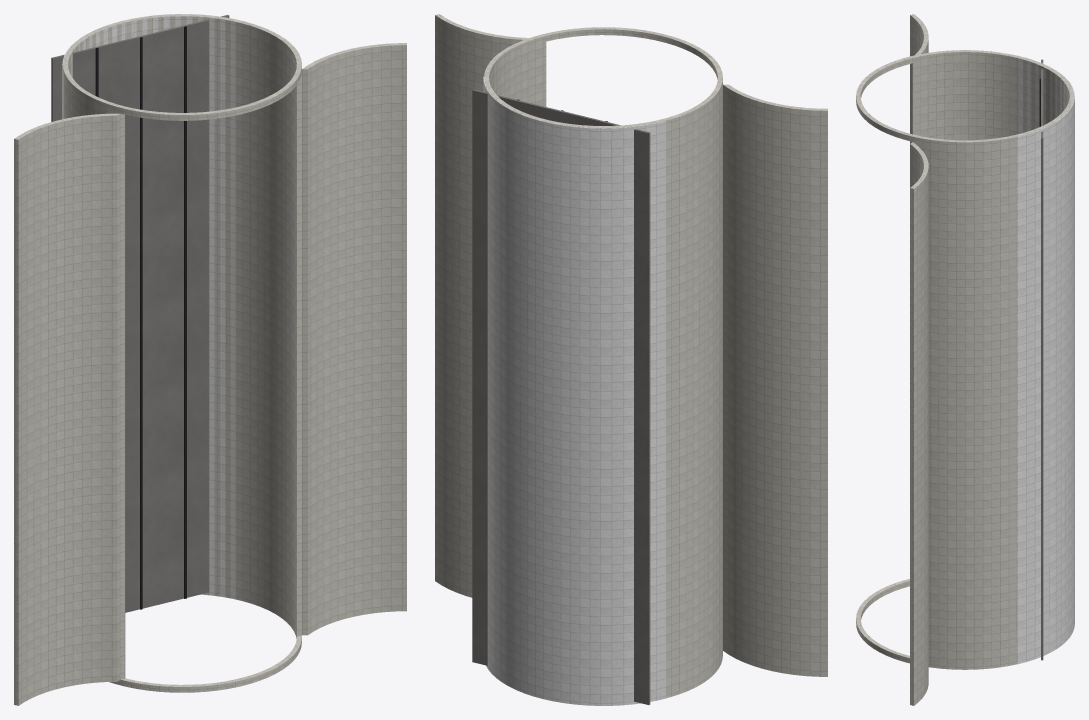
File: aero03_cargo_bay_mk3_1000_open.glb
3 views of the same model, side by side, from view 1: azimuth 30°, elevation 25°; view 2: azimuth 150°, elevation 25°; view 3: azimuth 270°, elevation 25° (orthographic). The views are drawn at different scales.
Visible parts, largest first — view 1: door_l, door_r, fuselage, cargo_floor, belly_tiles, floor_rails; view 2: belly_tiles, door_l, fuselage, door_r, cargo_floor; view 3: fuselage, belly_tiles, door_r, cargo_floor, door_l.
Boxes of the visible parts, x1,y1,x2,y2 form: door_l: [14, 113, 120, 705]; door_r: [302, 43, 406, 635]; fuselage: [63, 14, 301, 692]; cargo_floor: [51, 15, 229, 612]; belly_tiles: [62, 14, 243, 599]; floor_rails: [95, 26, 186, 609]; belly_tiles: [483, 76, 666, 705]; door_l: [723, 84, 827, 676]; fuselage: [484, 27, 722, 697]; door_r: [435, 14, 528, 597]; cargo_floor: [472, 89, 650, 704]; fuselage: [856, 50, 1074, 669]; belly_tiles: [1017, 55, 1074, 664]; door_r: [910, 142, 928, 705]; cargo_floor: [1041, 59, 1043, 660]; door_l: [910, 14, 928, 143].
Size of the model in its own units: 7.11 by 10 by 3.76.
4 materials, 3 textured.
